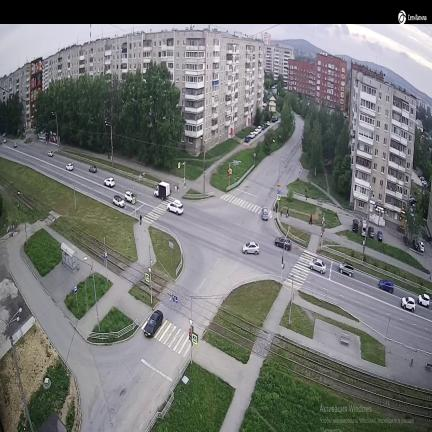bench: (341, 333, 349, 345), (426, 363, 431, 370)
busStop: (61, 243, 78, 272)
busStopSign: (104, 238, 108, 280), (74, 286, 78, 310)
car: (144, 310, 163, 337), (309, 259, 326, 274), (167, 200, 183, 215), (243, 241, 259, 255), (275, 237, 291, 250), (340, 262, 353, 277), (402, 297, 415, 312), (379, 280, 393, 293), (418, 294, 429, 307), (113, 196, 124, 207), (104, 177, 115, 188), (125, 191, 134, 202), (66, 162, 74, 171), (262, 208, 268, 220), (368, 226, 374, 238), (353, 219, 358, 232), (89, 166, 97, 173), (377, 231, 382, 242)
human: (309, 215, 312, 224), (286, 208, 289, 217), (140, 215, 142, 224), (175, 185, 177, 191), (281, 208, 282, 217)
lightPole: (91, 258, 100, 330), (105, 121, 113, 167), (202, 138, 205, 193), (74, 184, 76, 210)
pedestianCross: (154, 319, 190, 356), (288, 250, 317, 289), (143, 198, 174, 224), (221, 194, 262, 213)
pedestrianSign: (145, 267, 152, 303)
sign: (169, 242, 173, 253)
trafficLight: (189, 297, 198, 363), (133, 173, 144, 217), (281, 231, 288, 282), (228, 160, 241, 185), (178, 162, 186, 187), (321, 216, 325, 247), (277, 189, 281, 212)
truck: (154, 182, 170, 199), (361, 218, 367, 236)
